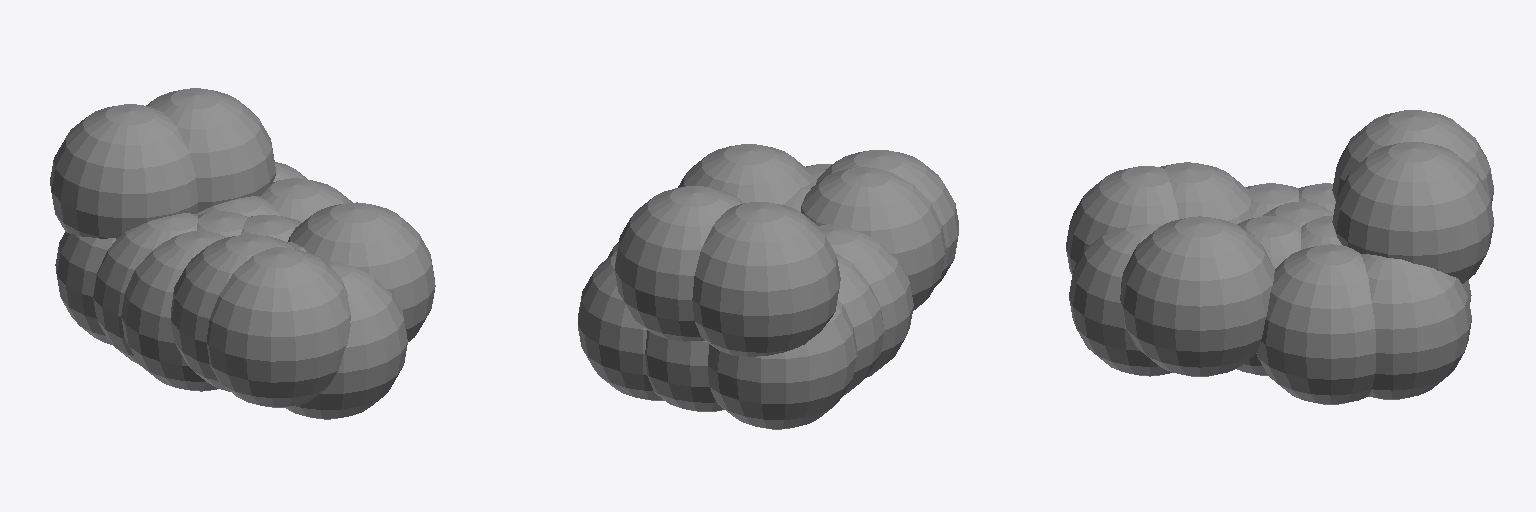
File: pano.obj
The picture shows the model from 3 angles: view 1: azimuth 30°, elevation 25°; view 2: azimuth 150°, elevation 25°; view 3: azimuth 270°, elevation 25°; orthographic projection.
Visible parts, largest first — view 1: pano15, pano11, pano16, pano05, pano01, pano13, pano14, pano08, pano04, pano10, pano09, pano17 (+1 smaller); view 2: pano11, pano05, pano04, pano14, pano06, pano16, pano13, pano03, pano15, pano08; view 3: pano16, pano05, pano10, pano06, pano01, pano15, pano11, pano14, pano09, pano13, pano17, pano07 (+1 smaller).
Boxes of the visible parts, box(x1,y1,x2,y2) form: pano15: box(207, 247, 350, 407); pano11: box(50, 104, 197, 238); pano16: box(288, 202, 435, 341); pano05: box(146, 88, 275, 212); pano01: box(285, 260, 407, 419); pano13: box(121, 231, 226, 391); pano14: box(171, 234, 296, 391); pano08: box(93, 213, 197, 363); pano04: box(55, 232, 115, 344); pano10: box(260, 178, 352, 222); pano09: box(241, 215, 301, 241); pano17: box(197, 211, 248, 236); pano11: box(692, 202, 840, 356); pano05: box(615, 186, 744, 341); pano04: box(708, 300, 856, 429); pano14: box(801, 167, 945, 310); pano06: box(578, 251, 663, 400); pano16: box(678, 144, 811, 204); pano13: box(819, 224, 913, 377); pano03: box(645, 330, 724, 411); pano15: box(816, 150, 958, 285); pano08: box(835, 253, 884, 395); pano16: box(1120, 216, 1274, 376); pano05: box(1332, 142, 1493, 283); pano10: box(1256, 244, 1375, 404); pano06: box(1361, 254, 1471, 399); pano01: box(1069, 223, 1171, 376); pano15: box(1066, 166, 1178, 274); pano11: box(1332, 110, 1493, 205); pano14: box(1160, 162, 1251, 224); pano09: box(1237, 216, 1300, 375); pano13: box(1246, 183, 1298, 218); pano17: box(1263, 201, 1333, 226); pano07: box(1301, 216, 1342, 249).
Size of the model in its own units: 495 by 388 by 681.